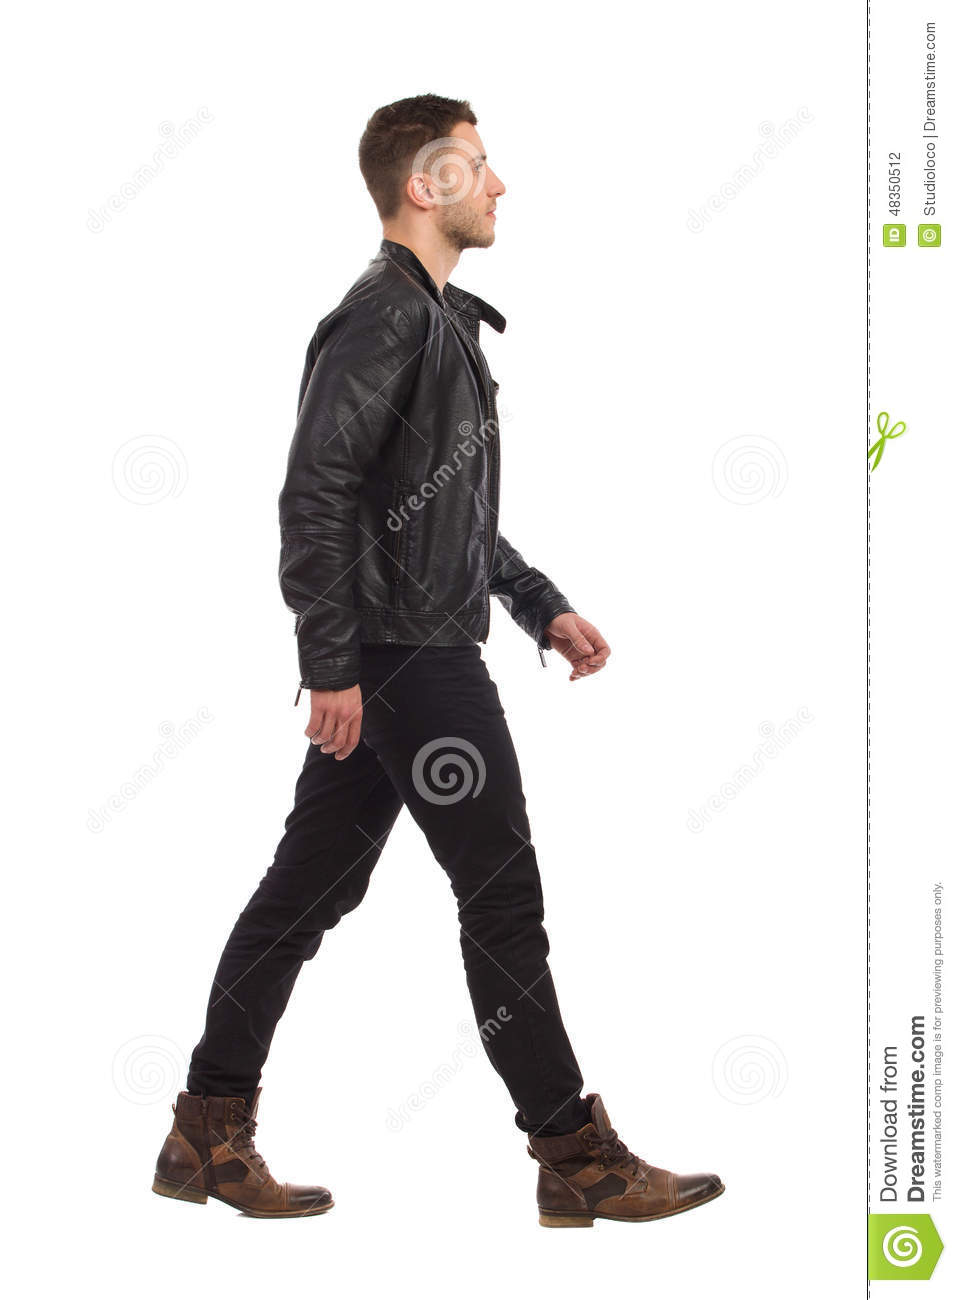Person: (150, 86, 736, 1230)
